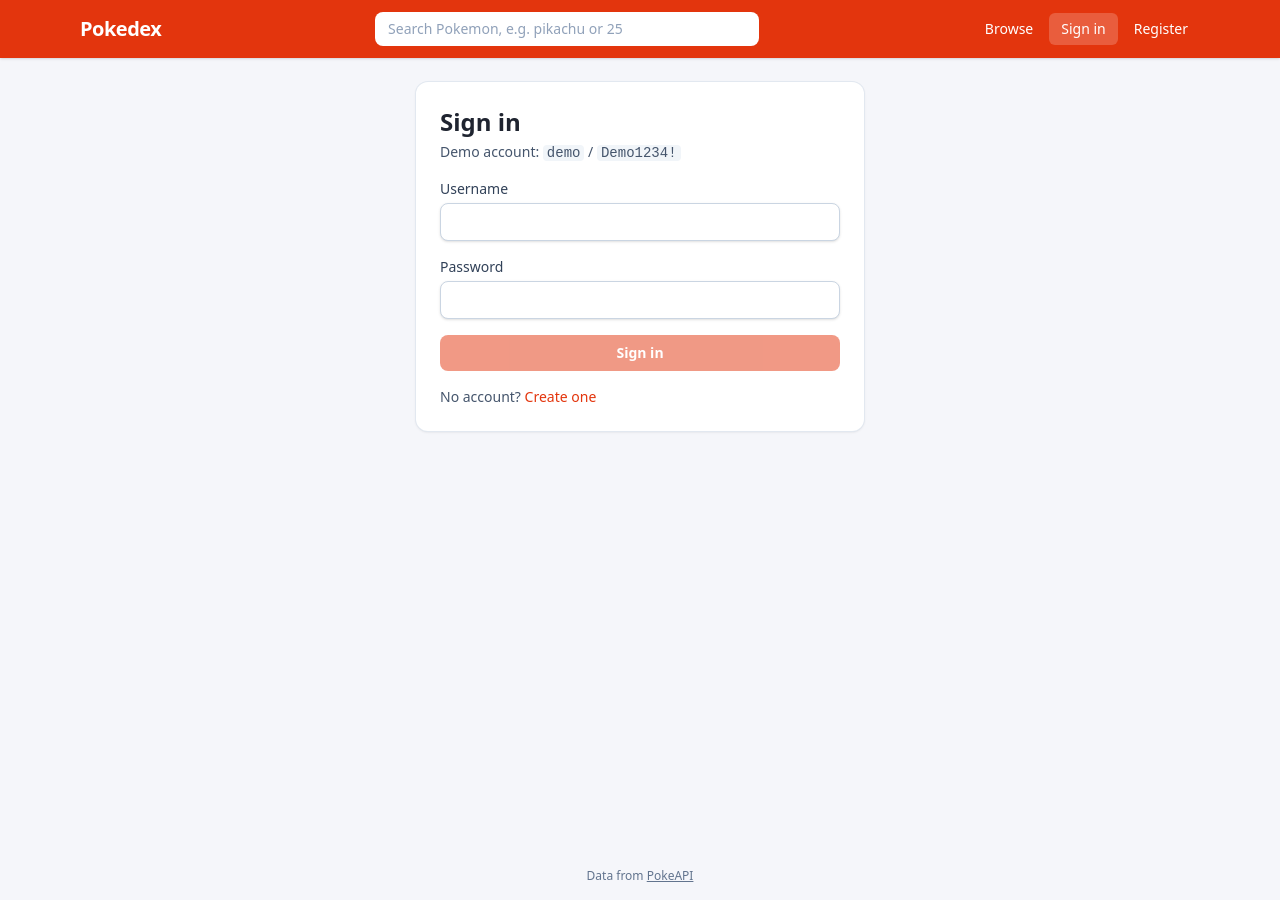
it: authentication › shows the server message when credentials are wrong
Type "demo" into the field labelled "Username" at (640, 222), box [440, 203, 840, 241]
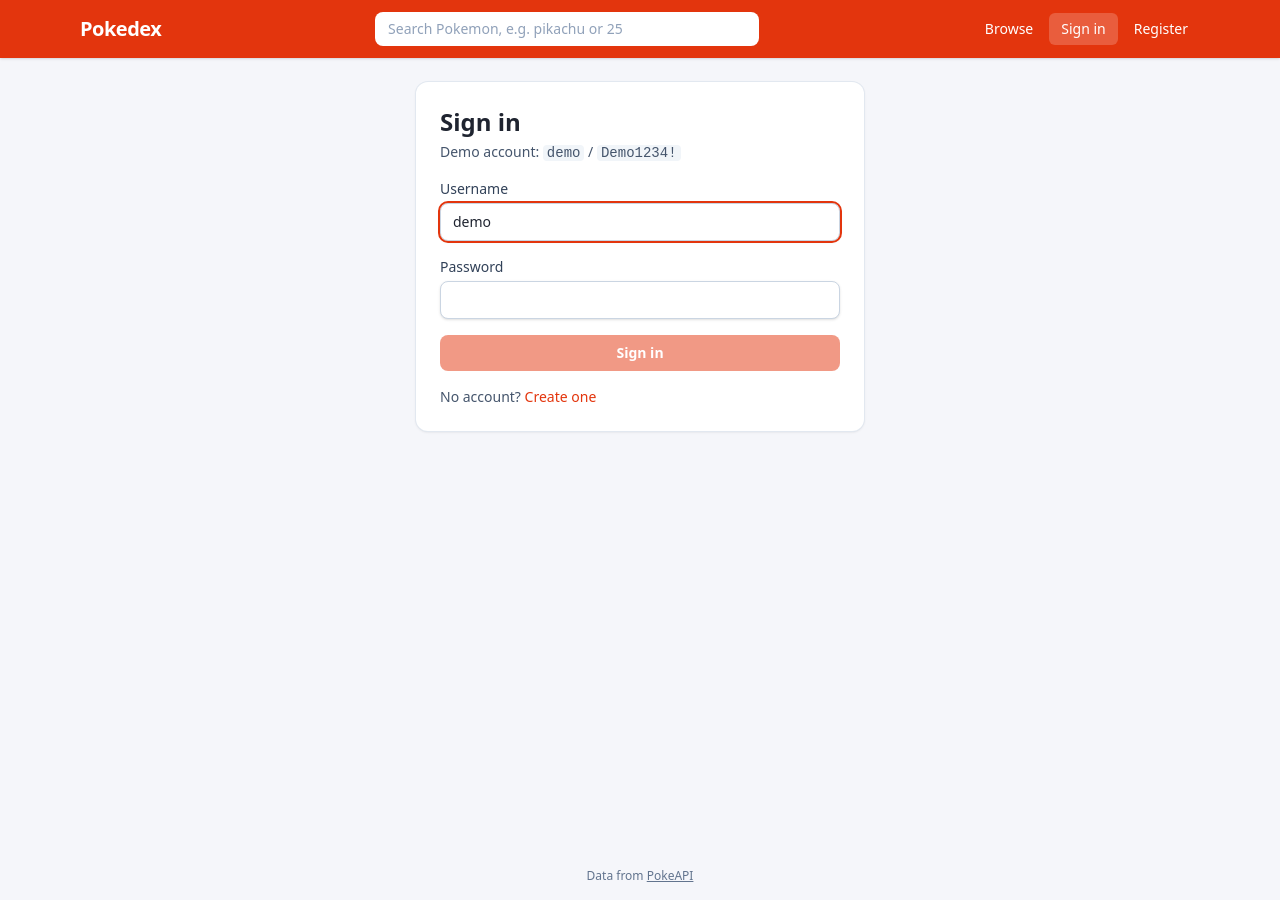
Type "wrong-password" into the password field labelled "Password" at (640, 300), box [440, 281, 840, 319]
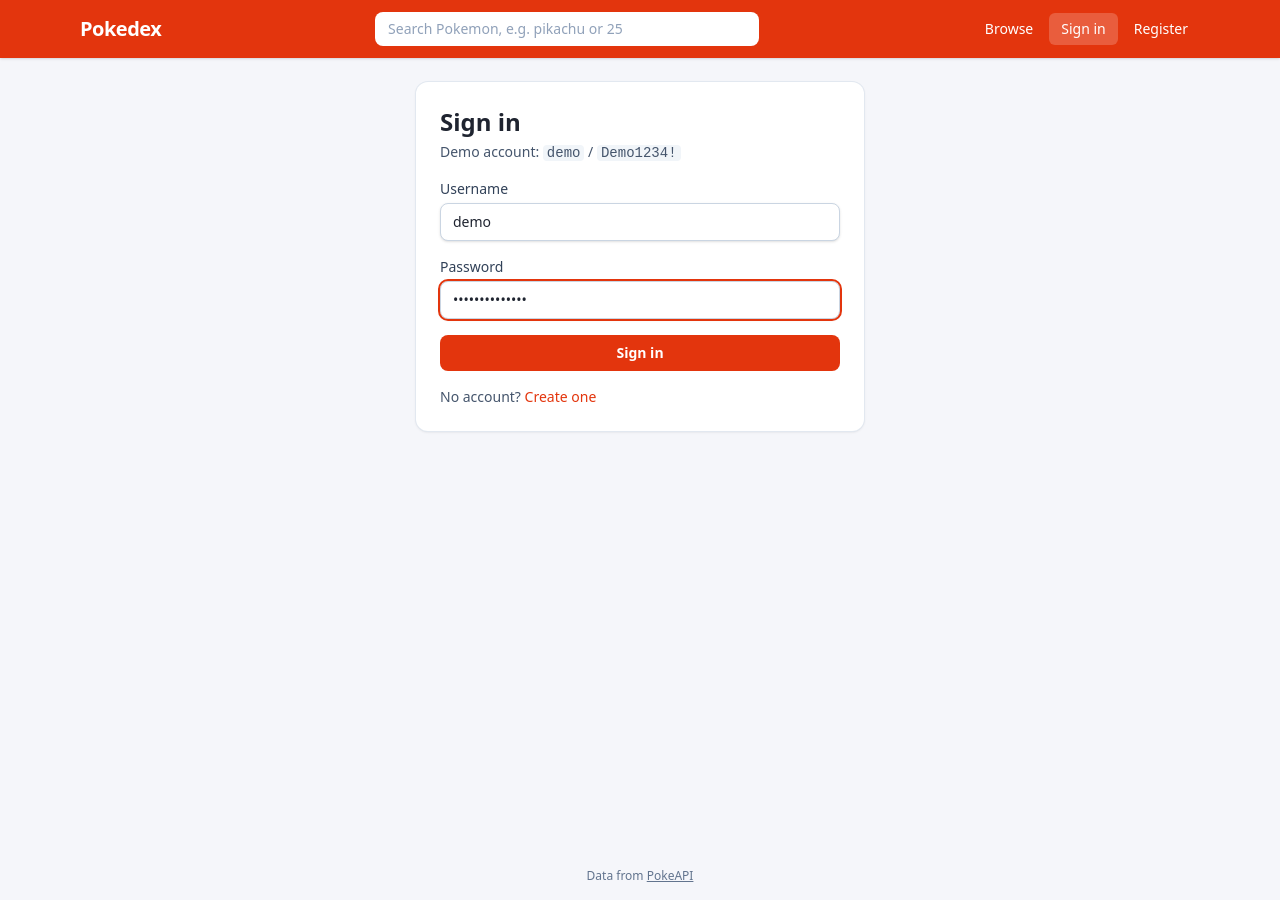
Click the button "Sign in" at (640, 353), box [440, 335, 840, 371]
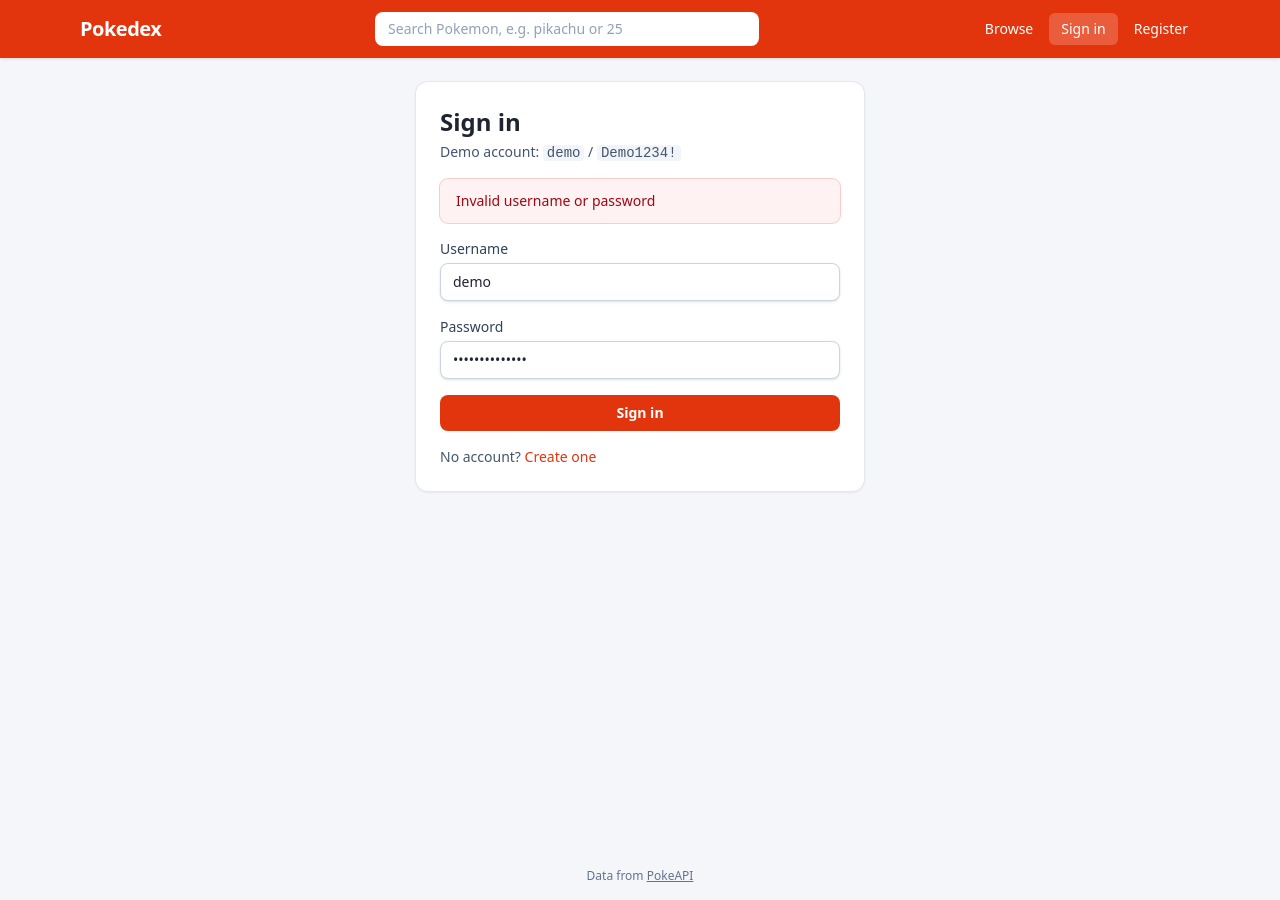
Result: the message reads "Invalid username or password" at [456, 191, 655, 210]
